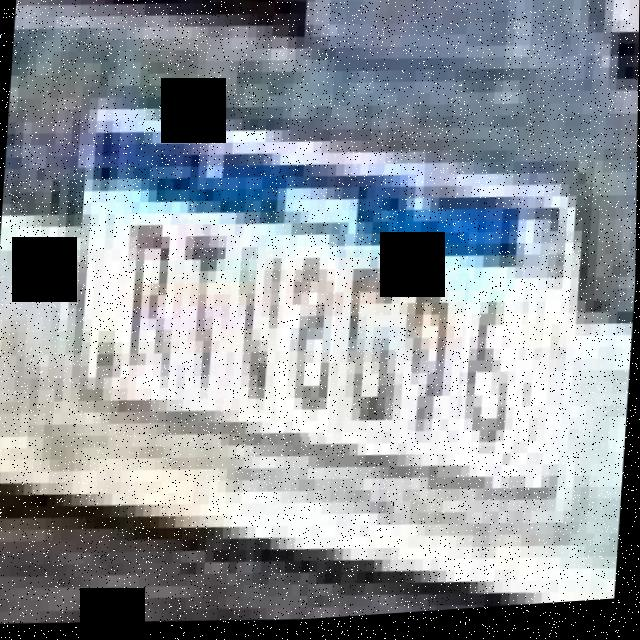6: (459, 272, 527, 457)
8: (277, 236, 350, 445)
9: (397, 277, 473, 465)
G: (330, 252, 412, 441)
R: (99, 207, 186, 407)
T: (167, 219, 242, 405)
V: (231, 249, 287, 421)
